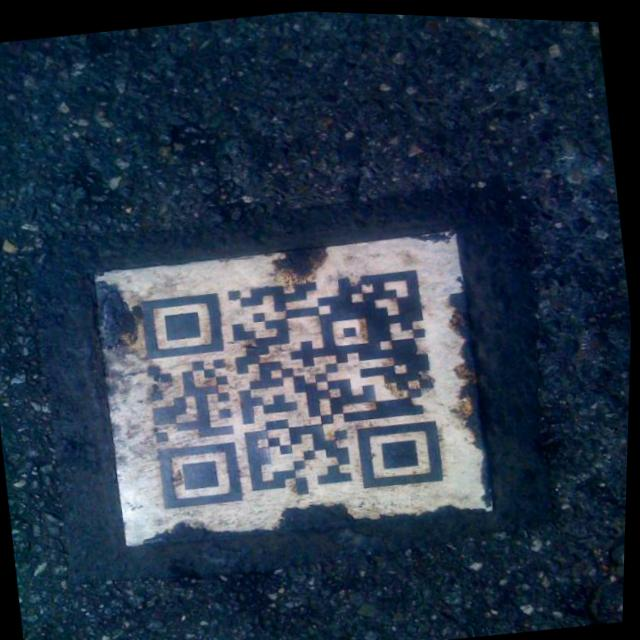qrcode: (139, 259, 451, 516)
